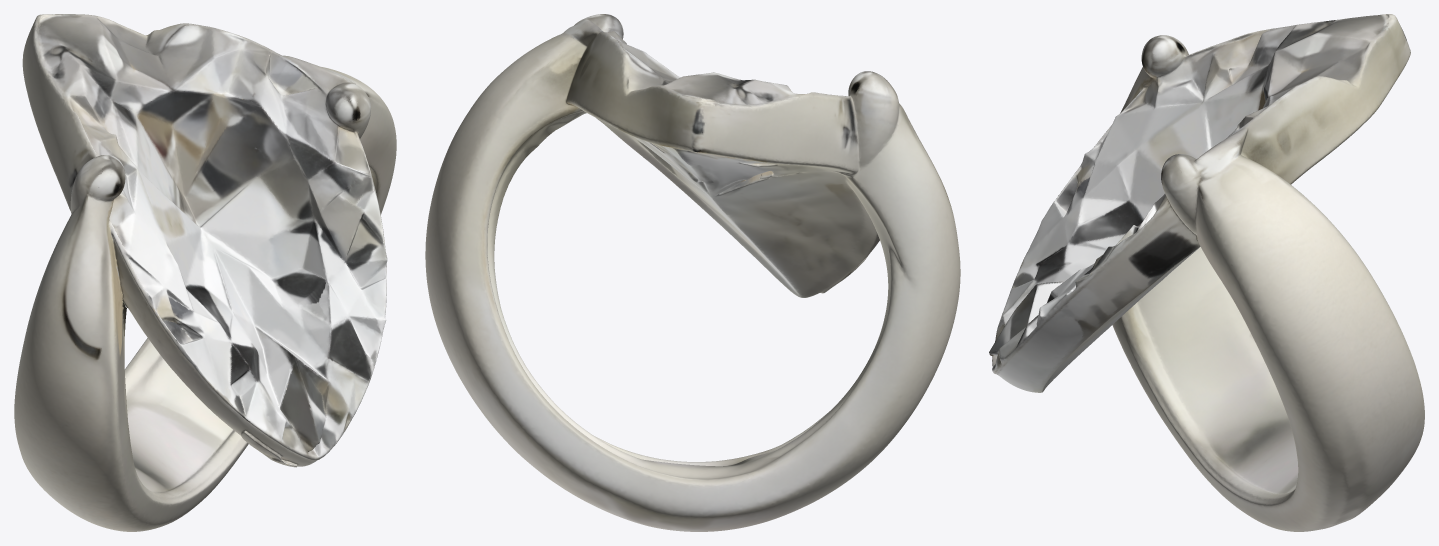
3 views of the same model, side by side, from view 1: azimuth 30°, elevation 25°; view 2: azimuth 150°, elevation 25°; view 3: azimuth 270°, elevation 25° (orthographic). The views are drawn at different scales.
Size of the model in its own units: 0.8657 by 0.9111 by 0.7669.
1 material, 1 textured.
